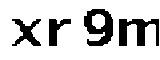9: (78, 7, 116, 48)
m: (117, 13, 160, 50)
r: (42, 17, 75, 47)
x: (5, 16, 41, 47)
